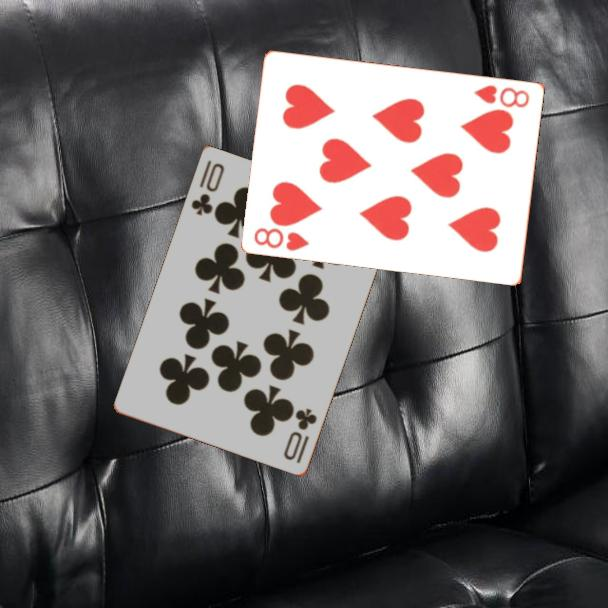c10: (280, 405, 320, 467), (188, 157, 227, 219)
h08: (471, 81, 532, 110), (251, 224, 312, 253)
